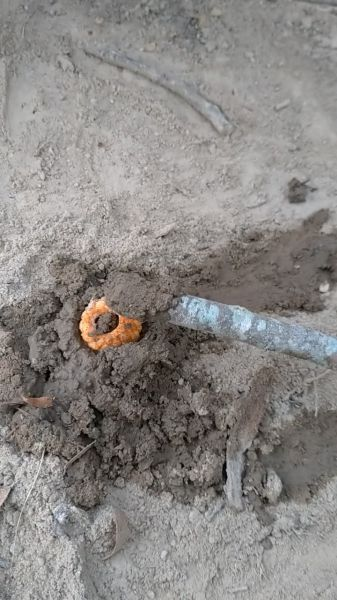eggs: (76, 291, 145, 356)
